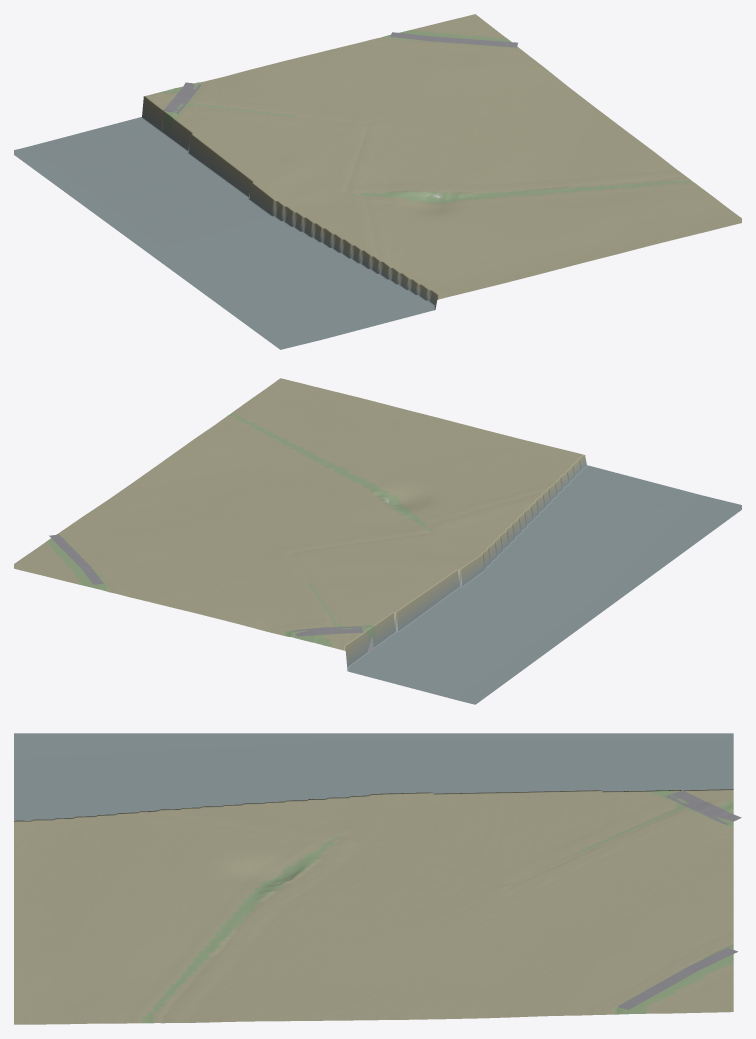
3 views of the same model, one above another, from view 1: azimuth 30°, elevation 25°; view 2: azimuth 150°, elevation 25°; view 3: azimuth 270°, elevation 25° (orthographic). The views are drawn at different scales.
Parts seen in each view (by area): view 1: prim0, prim1; view 2: prim0, prim1; view 3: prim0, prim1.
Part boxes in pixels (x1,y1,x2,y2): prim0: (14,14,741,349); prim1: (161,32,517,131); prim0: (14,378,741,704); prim1: (49,534,373,651); prim0: (14,733,733,1024); prim1: (617,790,741,1009).
Size of the model in its own units: 516 by 30.25 by 518.
